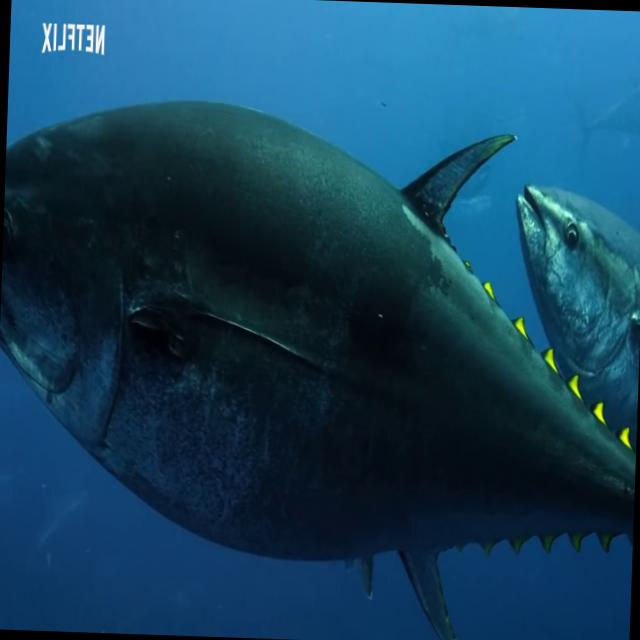fish: (0, 100, 640, 617), (507, 179, 640, 440)
